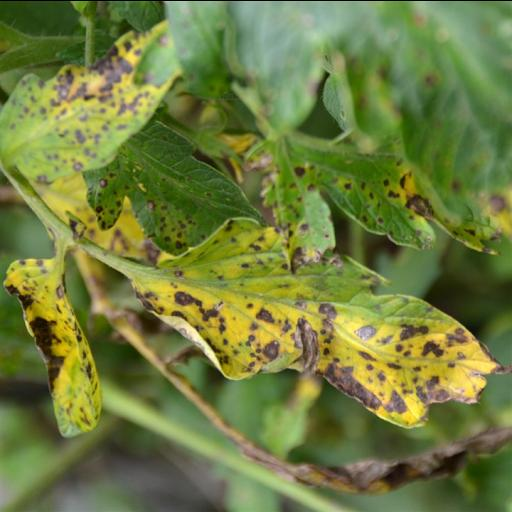disease_tomato: (120, 220, 499, 452), (244, 128, 500, 256), (4, 18, 180, 174), (76, 120, 268, 260), (7, 245, 105, 439)
